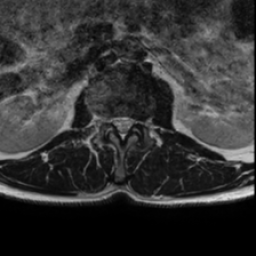CCS_normal: (118, 109, 126, 144)
LFS_severe_stenosis: (135, 112, 143, 129)
LLS_stenosis: (127, 110, 135, 133)
RFS_stenosis: (103, 109, 111, 128)
RLS_normal: (110, 110, 118, 135)
